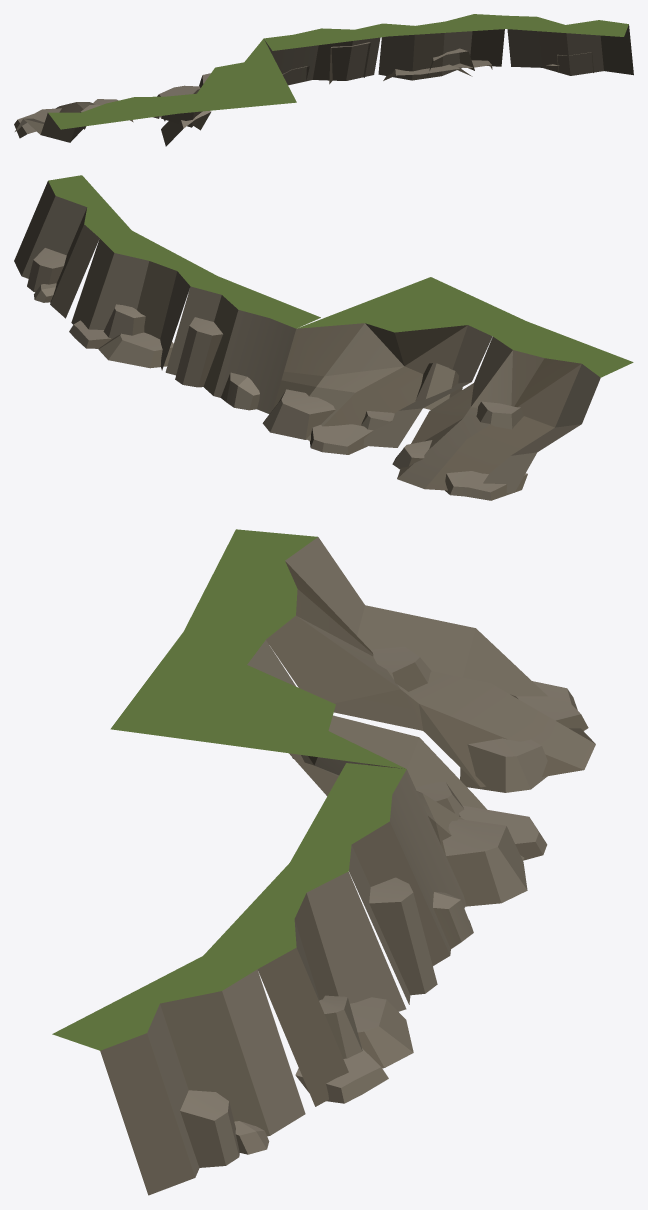
File: Mountain23.fbx
3 views of the same model, one above another, from view 1: azimuth 30°, elevation 25°; view 2: azimuth 150°, elevation 25°; view 3: azimuth 270°, elevation 25° (orthographic). The views are drawn at different scales.
Visible parts, largest first — view 1: Mountain23; view 2: Mountain23; view 3: Mountain23.
Boxes of the visible parts, x1,y1,x2,y2 form: Mountain23: (14, 14, 633, 146); Mountain23: (14, 175, 633, 500); Mountain23: (52, 529, 595, 1195).
Size of the model in its own units: 153 by 17.47 by 65.58.
